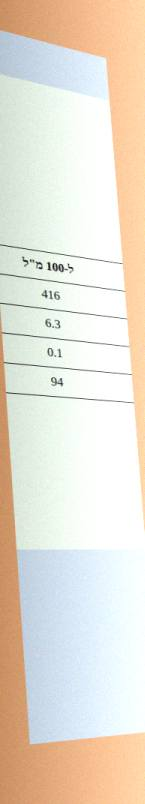carbs: (49, 373, 65, 390)
energy: (39, 286, 62, 304)
fat: (45, 344, 65, 361)
protein: (43, 315, 63, 333)
